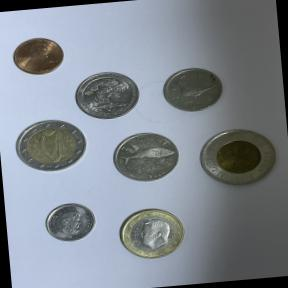1 Euro-B: (107, 199, 196, 268)
2 Euro-B: (8, 113, 92, 178)
Canada-10cent-B: (36, 197, 100, 250)
Canada-2Dollar-B: (189, 118, 286, 196)
Croatia-2Kune-B: (103, 124, 189, 192)
US-1cent-B: (4, 28, 76, 84)
US-25cent-B: (70, 68, 148, 127)
